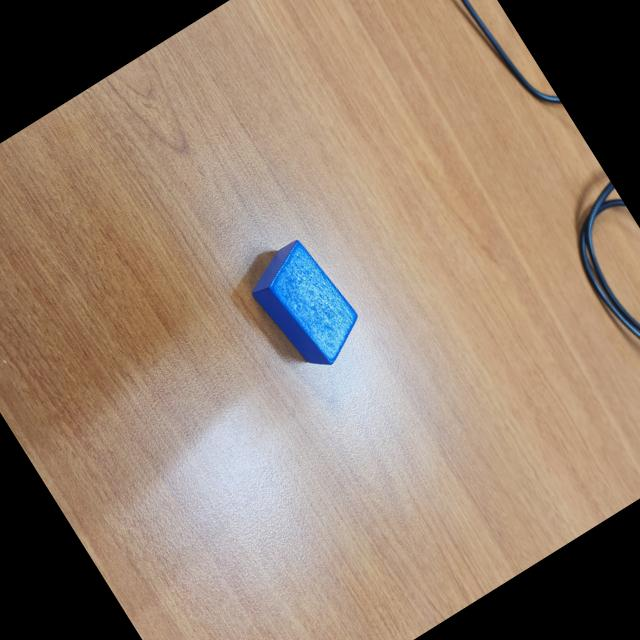blue: (240, 232, 374, 380)
